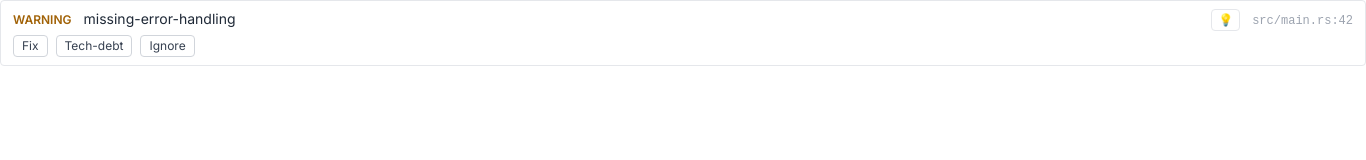
FindingsTable › clicking the toggle reveals the suggestion text and clicking again hides it
The image size is (1366, 160).
Click the button with test id "suggestion-toggle-f1" at (1226, 20), box [1211, 9, 1240, 31]
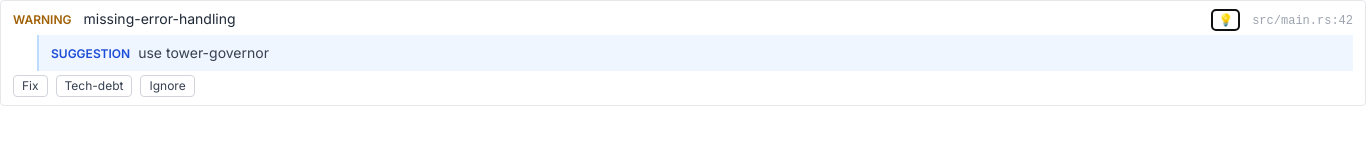
expect the element with test id "suggestion-body-f1" shows "use tower-governor": met, box [138, 44, 269, 61]
Click the button with test id "suggestion-toggle-f1" at (1226, 20), box [1211, 9, 1240, 31]
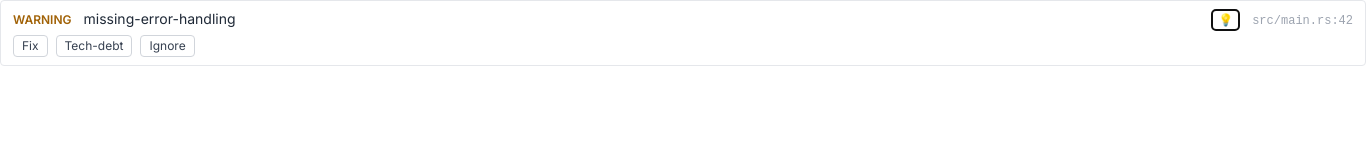
expect the element with test id "suggestion-body-f1" is gone: met
